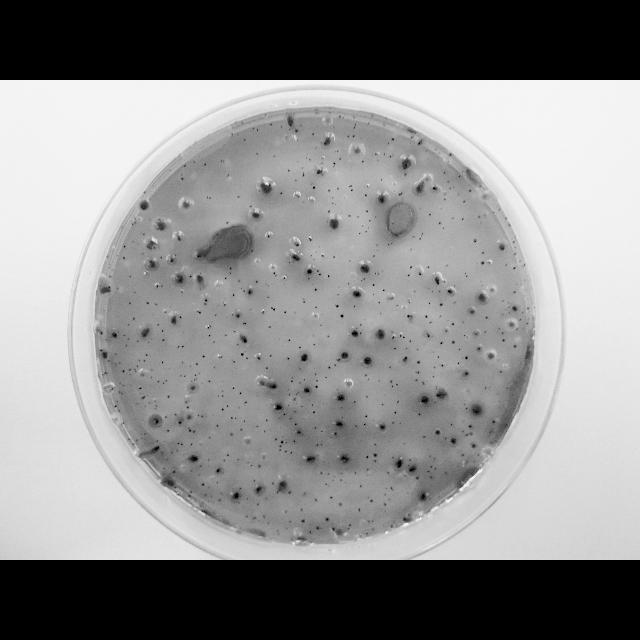colony: (258, 178, 274, 196), (399, 155, 413, 171), (338, 453, 352, 465), (470, 404, 484, 416), (328, 218, 342, 230), (98, 284, 112, 296), (146, 238, 158, 250), (375, 328, 387, 339), (278, 481, 288, 494), (138, 200, 150, 210), (155, 221, 167, 231), (181, 198, 191, 210), (174, 274, 186, 284), (150, 415, 160, 427), (165, 476, 177, 486), (240, 334, 250, 346), (414, 182, 424, 194), (377, 192, 387, 204), (435, 389, 447, 399), (359, 262, 371, 272), (268, 381, 278, 392), (477, 292, 488, 302), (418, 491, 428, 502), (362, 356, 373, 366), (251, 210, 261, 220), (141, 328, 151, 338), (150, 444, 160, 454), (336, 392, 346, 402), (306, 455, 316, 465), (420, 394, 430, 404), (291, 252, 301, 262), (353, 144, 363, 154), (188, 454, 200, 462), (286, 114, 294, 126), (339, 350, 348, 360), (323, 136, 332, 146), (395, 457, 403, 468), (408, 463, 417, 472), (147, 260, 157, 268), (196, 274, 204, 284), (334, 420, 344, 428), (256, 484, 264, 494), (274, 402, 282, 412), (378, 423, 388, 431), (300, 353, 308, 363), (350, 330, 360, 338), (352, 290, 362, 298), (232, 492, 240, 501), (487, 352, 495, 361), (258, 379, 266, 387), (336, 528, 344, 536), (434, 428, 442, 436), (508, 320, 516, 328), (293, 190, 301, 198), (498, 243, 506, 251), (316, 167, 324, 175), (306, 267, 314, 275), (171, 315, 177, 325), (296, 535, 306, 541), (434, 276, 440, 286), (402, 516, 412, 522), (175, 234, 182, 242), (110, 332, 118, 338), (304, 386, 310, 394), (308, 195, 314, 203), (402, 355, 408, 363), (294, 242, 302, 248), (196, 252, 202, 258), (216, 467, 222, 473), (186, 413, 192, 419), (102, 352, 108, 358), (296, 430, 302, 436), (451, 438, 457, 444), (471, 443, 477, 449), (469, 308, 475, 314), (447, 288, 453, 294), (512, 305, 518, 311), (282, 274, 288, 280), (324, 516, 330, 522), (217, 354, 223, 360), (279, 190, 283, 196), (302, 171, 306, 177), (243, 136, 247, 142), (142, 394, 146, 400), (180, 288, 184, 294), (207, 324, 211, 330), (374, 452, 378, 458), (251, 516, 257, 520), (476, 346, 482, 350), (464, 372, 470, 376), (452, 340, 456, 346), (490, 287, 494, 293), (426, 332, 430, 338), (432, 186, 438, 190), (374, 152, 380, 156), (248, 289, 252, 295), (236, 313, 240, 319), (336, 358, 342, 362), (481, 260, 485, 266), (507, 222, 511, 228), (308, 235, 312, 241), (270, 265, 276, 269), (312, 186, 316, 190), (255, 152, 259, 156), (272, 154, 276, 158), (122, 256, 126, 260), (170, 258, 174, 262), (154, 302, 158, 306), (138, 386, 142, 390), (114, 404, 118, 408), (136, 402, 140, 406), (178, 420, 182, 424), (201, 482, 205, 486), (167, 394, 171, 398), (190, 386, 194, 390), (204, 298, 208, 302), (203, 302, 207, 306), (240, 352, 244, 356), (268, 354, 272, 358), (286, 356, 290, 360), (300, 404, 304, 408), (314, 385, 318, 389), (334, 432, 338, 436), (294, 422, 298, 426), (415, 476, 419, 480), (370, 499, 374, 503), (331, 527, 335, 531), (316, 526, 320, 530), (308, 530, 312, 534), (256, 502, 260, 506), (218, 498, 222, 502), (258, 464, 262, 468), (262, 455, 266, 459), (230, 432, 234, 436), (468, 424, 472, 428), (469, 432, 473, 436), (492, 420, 496, 424), (464, 356, 468, 360), (474, 332, 478, 336), (451, 322, 455, 326), (485, 316, 489, 320), (424, 314, 428, 318), (406, 314, 410, 318), (482, 290, 486, 294), (501, 299, 505, 303), (518, 318, 522, 322), (502, 338, 506, 342), (438, 315, 442, 319), (438, 221, 442, 225), (458, 174, 462, 178), (391, 137, 395, 141), (404, 173, 408, 177), (364, 193, 368, 197), (327, 188, 331, 192), (327, 210, 331, 214), (348, 214, 352, 218), (294, 129, 298, 133), (256, 128, 260, 132), (251, 126, 255, 130), (144, 270, 148, 274), (116, 286, 120, 290), (272, 307, 276, 311), (314, 498, 318, 502), (512, 290, 516, 294), (512, 266, 516, 270), (473, 238, 477, 242), (468, 189, 472, 193), (478, 184, 482, 188), (504, 216, 508, 220), (512, 240, 516, 244), (417, 360, 421, 364), (414, 378, 418, 382), (364, 373, 368, 377), (340, 314, 344, 318), (391, 336, 395, 340), (338, 502, 342, 506), (288, 490, 292, 494), (328, 111, 332, 115), (372, 283, 376, 287), (382, 289, 386, 293), (302, 300, 306, 304), (202, 354, 206, 358), (140, 372, 144, 376), (118, 382, 122, 386), (288, 168, 290, 174), (180, 177, 183, 181), (227, 173, 230, 177), (225, 276, 228, 280), (165, 415, 168, 419), (175, 412, 178, 416), (167, 429, 170, 433), (172, 470, 175, 474), (190, 442, 193, 446), (192, 430, 195, 434), (187, 405, 190, 409), (200, 414, 203, 418), (212, 340, 215, 344), (257, 356, 261, 359), (312, 411, 316, 414), (280, 441, 284, 444), (366, 467, 369, 471), (374, 458, 376, 464), (391, 524, 394, 528), (263, 514, 265, 520), (252, 478, 255, 482), (190, 468, 193, 472), (245, 401, 248, 405), (391, 296, 394, 300), (462, 200, 466, 203), (349, 185, 353, 188), (351, 188, 354, 192), (192, 159, 195, 163), (232, 312, 234, 318), (444, 470, 446, 476), (471, 471, 474, 475), (477, 215, 481, 218), (422, 380, 424, 386), (272, 480, 274, 486), (110, 274, 112, 280), (320, 156, 326, 158), (346, 134, 349, 138), (339, 114, 341, 120), (278, 416, 282, 419), (247, 496, 250, 499), (230, 416, 233, 419), (162, 466, 165, 469), (366, 122, 369, 125), (204, 162, 206, 166), (184, 164, 186, 168), (157, 218, 161, 220), (142, 252, 144, 256), (160, 256, 162, 260), (207, 195, 209, 199), (209, 196, 211, 200), (268, 234, 270, 238), (230, 266, 232, 270), (190, 274, 192, 278), (156, 284, 158, 288), (146, 302, 150, 304), (128, 302, 132, 304), (164, 310, 166, 314), (156, 324, 160, 326), (162, 338, 164, 342), (136, 340, 140, 342), (129, 368, 131, 372), (122, 370, 126, 372), (136, 438, 138, 442), (144, 432, 146, 436), (188, 494, 190, 498), (181, 442, 183, 446), (166, 378, 168, 382), (100, 332, 104, 334), (122, 334, 126, 336), (126, 338, 130, 340), (133, 317, 135, 321), (199, 311, 201, 315), (208, 334, 212, 336), (224, 334, 228, 336), (290, 380, 294, 382), (303, 378, 305, 382), (289, 392, 291, 396), (316, 379, 318, 383), (320, 430, 324, 432), (316, 444, 320, 446), (279, 444, 281, 448), (284, 450, 288, 452), (332, 478, 334, 482), (325, 482, 327, 486), (340, 478, 342, 482), (360, 484, 362, 488), (366, 455, 368, 459), (374, 442, 376, 446), (409, 458, 411, 462), (404, 474, 406, 478), (397, 472, 399, 476), (390, 487, 392, 491), (388, 498, 392, 500), (384, 502, 386, 506), (358, 508, 360, 512), (368, 520, 370, 524), (358, 534, 362, 536), (348, 524, 352, 526), (347, 528, 351, 530), (302, 519, 304, 523), (246, 514, 248, 518), (208, 458, 210, 462), (224, 458, 226, 462), (250, 463, 252, 467), (274, 438, 278, 440), (266, 418, 268, 422), (256, 425, 260, 427), (184, 374, 186, 378), (180, 374, 182, 378), (227, 404, 229, 408), (238, 392, 242, 394), (283, 412, 285, 416), (354, 425, 358, 427), (364, 422, 366, 426), (365, 414, 367, 418), (418, 412, 420, 416), (460, 454, 464, 456), (488, 442, 492, 444), (464, 434, 468, 436), (439, 304, 443, 306), (408, 298, 410, 302), (444, 280, 446, 284), (466, 274, 468, 278), (526, 322, 528, 326), (514, 344, 516, 348), (444, 330, 448, 332), (426, 266, 430, 268), (419, 271, 421, 275), (410, 265, 412, 269), (418, 238, 422, 240), (428, 214, 432, 216), (442, 172, 446, 174), (389, 154, 391, 158), (383, 152, 385, 156), (380, 178, 382, 182), (367, 184, 369, 188), (300, 124, 302, 128), (270, 122, 272, 126), (231, 132, 233, 136), (129, 274, 131, 278), (233, 293, 235, 297), (256, 280, 258, 284), (272, 272, 276, 274), (275, 274, 277, 278), (271, 306, 273, 310), (262, 310, 264, 314), (244, 321, 246, 325), (268, 326, 272, 328), (288, 338, 290, 342), (315, 372, 317, 376), (366, 394, 368, 398), (330, 496, 332, 500), (300, 508, 302, 512), (284, 510, 288, 512), (408, 512, 410, 516), (430, 465, 432, 469), (434, 466, 436, 470), (438, 495, 440, 499), (432, 458, 436, 460), (472, 460, 476, 462), (527, 306, 529, 310), (481, 252, 485, 254), (426, 178, 428, 182), (397, 400, 399, 404), (390, 380, 392, 384), (391, 384, 393, 388), (327, 334, 329, 338), (400, 334, 402, 338), (403, 335, 405, 339), (388, 366, 392, 368), (450, 423, 452, 427), (422, 436, 426, 438), (402, 442, 406, 444), (406, 504, 408, 508), (178, 345, 180, 349), (107, 254, 109, 258), (362, 160, 364, 164), (352, 134, 354, 138), (354, 123, 356, 127), (353, 126, 355, 130), (315, 146, 317, 150), (342, 116, 344, 120), (337, 149, 339, 153), (377, 159, 379, 163), (401, 191, 403, 195), (392, 222, 394, 226), (328, 274, 330, 278), (319, 272, 321, 276), (317, 269, 319, 273), (308, 276, 310, 280), (315, 288, 317, 292), (287, 256, 289, 260), (336, 304, 338, 308), (284, 310, 286, 314), (196, 362, 198, 366), (354, 304, 356, 308), (378, 300, 380, 304), (372, 292, 374, 296), (399, 421, 401, 425), (182, 360, 184, 364), (190, 364, 192, 368), (115, 362, 117, 366), (144, 404, 146, 408), (279, 425, 281, 429), (220, 160, 223, 162), (180, 174, 183, 176), (134, 217, 136, 220), (227, 454, 230, 456), (185, 401, 188, 403), (162, 361, 164, 364), (125, 344, 128, 346), (266, 366, 268, 369), (341, 416, 343, 419), (314, 426, 316, 429), (386, 472, 389, 474), (247, 461, 249, 464), (232, 386, 234, 389), (445, 436, 447, 439), (489, 431, 491, 434), (465, 406, 467, 409), (500, 371, 502, 374), (441, 342, 444, 344), (421, 232, 423, 235), (452, 217, 454, 220), (449, 187, 451, 190), (336, 188, 339, 190), (332, 197, 334, 200), (367, 227, 369, 230), (281, 125, 283, 128), (132, 240, 134, 243), (354, 401, 356, 404), (484, 386, 486, 389), (506, 386, 508, 389), (514, 252, 516, 255), (394, 346, 396, 349), (434, 401, 436, 404), (391, 331, 394, 333), (416, 348, 419, 350), (441, 364, 444, 366), (251, 486, 253, 489), (162, 451, 164, 454), (297, 160, 299, 163), (334, 162, 336, 165), (311, 182, 313, 185), (303, 200, 305, 203), (321, 162, 324, 164), (373, 255, 375, 258), (336, 294, 339, 296), (144, 192, 146, 194), (134, 222, 136, 224), (132, 223, 134, 225), (143, 233, 145, 235), (124, 246, 126, 248), (174, 254, 176, 256), (238, 196, 240, 198), (250, 205, 252, 207), (226, 222, 228, 224), (217, 233, 219, 235), (229, 272, 231, 274), (161, 285, 163, 287), (134, 291, 136, 293), (180, 316, 182, 318), (162, 330, 164, 332), (148, 342, 150, 344), (146, 354, 148, 356), (144, 360, 146, 362), (139, 360, 141, 362), (136, 365, 138, 367), (134, 368, 136, 370), (129, 373, 131, 375), (119, 362, 121, 364), (108, 360, 110, 362), (123, 384, 125, 386), (118, 391, 120, 393), (121, 392, 123, 394), (111, 388, 113, 390), (116, 400, 118, 402), (118, 410, 120, 412), (148, 402, 150, 404), (156, 405, 158, 407), (154, 408, 156, 410), (153, 428, 155, 430), (157, 440, 159, 442), (128, 438, 130, 440), (132, 443, 134, 445), (122, 422, 124, 424), (176, 449, 178, 451), (171, 452, 173, 454), (174, 486, 176, 488), (190, 490, 192, 492), (200, 465, 202, 467), (177, 442, 179, 444), (188, 427, 190, 429), (189, 430, 191, 432), (197, 414, 199, 416), (151, 369, 153, 371), (151, 376, 153, 378), (158, 380, 160, 382), (163, 382, 165, 384), (100, 349, 102, 351), (115, 353, 117, 355), (128, 324, 130, 326), (215, 314, 217, 316), (234, 331, 236, 333), (236, 344, 238, 346), (246, 357, 248, 359), (233, 361, 235, 363), (292, 377, 294, 379), (299, 367, 301, 369), (299, 382, 301, 384), (294, 389, 296, 391), (287, 389, 289, 391), (297, 391, 299, 393), (295, 394, 297, 396), (294, 398, 296, 400), (288, 404, 290, 406), (312, 404, 314, 406), (325, 376, 327, 378), (340, 407, 342, 409), (320, 444, 322, 446), (293, 440, 295, 442), (286, 442, 288, 444), (279, 449, 281, 451), (290, 452, 292, 454), (323, 461, 325, 463), (320, 472, 322, 474), (341, 472, 343, 474), (355, 471, 357, 473), (327, 473, 329, 475), (386, 487, 388, 489), (384, 494, 386, 496), (367, 497, 369, 499), (372, 520, 374, 522), (372, 528, 374, 530), (366, 532, 368, 534), (289, 520, 291, 522), (277, 530, 279, 532), (239, 487, 241, 489), (221, 492, 223, 494), (205, 494, 207, 496), (210, 496, 212, 498), (237, 458, 239, 460), (264, 430, 266, 432), (240, 429, 242, 431), (243, 420, 245, 422), (235, 418, 237, 420), (217, 425, 219, 427), (209, 437, 211, 439), (208, 380, 210, 382), (198, 372, 200, 374), (195, 374, 197, 376), (194, 379, 196, 381), (191, 380, 193, 382), (221, 390, 223, 392), (222, 395, 224, 397), (218, 395, 220, 397), (222, 408, 224, 410), (290, 417, 292, 419), (294, 410, 296, 412), (392, 422, 394, 424), (394, 411, 396, 413), (478, 454, 480, 456), (462, 430, 464, 432), (458, 362, 460, 364), (459, 348, 461, 350), (464, 335, 466, 337), (484, 331, 486, 333), (462, 321, 464, 323), (428, 302, 430, 304), (396, 304, 398, 306), (414, 290, 416, 292), (439, 290, 441, 292), (464, 272, 466, 274), (508, 302, 510, 304), (507, 306, 509, 308), (508, 312, 510, 314), (516, 328, 518, 330), (502, 332, 504, 334), (498, 328, 500, 330), (466, 336, 468, 338), (430, 321, 432, 323), (446, 264, 448, 266), (408, 274, 410, 276), (388, 243, 390, 245), (412, 236, 414, 238), (421, 235, 423, 237), (462, 218, 464, 220), (444, 198, 446, 200), (447, 180, 449, 182), (387, 142, 389, 144), (392, 154, 394, 156), (332, 202, 334, 204), (365, 230, 367, 232), (362, 225, 364, 227), (369, 220, 371, 222), (366, 210, 368, 212), (357, 216, 359, 218), (334, 203, 336, 205), (295, 179, 297, 181), (301, 167, 303, 169), (289, 128, 291, 130), (200, 272, 202, 274), (238, 280, 240, 282), (243, 290, 245, 292), (265, 284, 267, 286), (267, 285, 269, 287), (284, 283, 286, 285), (267, 296, 269, 298), (224, 304, 226, 306), (222, 301, 224, 303), (226, 316, 228, 318), (299, 347, 301, 349), (328, 366, 330, 368), (334, 364, 336, 366), (367, 378, 369, 380), (323, 402, 325, 404), (366, 474, 368, 476), (304, 492, 306, 494), (430, 476, 432, 478), (427, 470, 429, 472), (407, 492, 409, 494), (522, 312, 524, 314), (528, 318, 530, 320), (523, 264, 525, 266), (505, 264, 507, 266), (488, 262, 490, 264), (454, 302, 456, 304), (480, 222, 482, 224), (498, 208, 500, 210), (435, 385, 437, 387), (432, 376, 434, 378), (396, 383, 398, 385), (378, 380, 380, 382), (382, 403, 384, 405), (360, 324, 362, 326), (360, 332, 362, 334), (410, 340, 412, 342), (406, 347, 408, 349), (437, 356, 439, 358), (434, 366, 436, 368), (404, 508, 406, 510), (276, 492, 278, 494), (216, 481, 218, 483), (198, 474, 200, 476), (104, 372, 106, 374), (182, 346, 184, 348), (309, 159, 311, 161), (306, 157, 308, 159), (333, 165, 335, 167), (339, 158, 341, 160), (312, 133, 314, 135), (334, 150, 336, 152), (399, 194, 401, 196), (376, 244, 378, 246), (377, 273, 379, 275), (375, 272, 377, 274), (363, 278, 365, 280), (348, 282, 350, 284), (310, 254, 312, 256), (302, 298, 304, 300), (315, 306, 317, 308), (320, 324, 322, 326), (252, 250, 254, 252), (282, 436, 284, 438), (151, 338, 153, 339), (208, 501, 210, 502), (201, 382, 203, 383), (428, 287, 429, 289), (502, 313, 503, 315), (442, 227, 443, 229), (136, 370, 136, 372), (432, 290, 432, 292), (454, 284, 454, 288), (392, 242, 392, 244), (458, 194, 458, 196), (360, 232, 360, 234), (430, 455, 430, 457), (418, 372, 418, 374), (313, 344, 315, 344), (290, 260, 290, 264)
